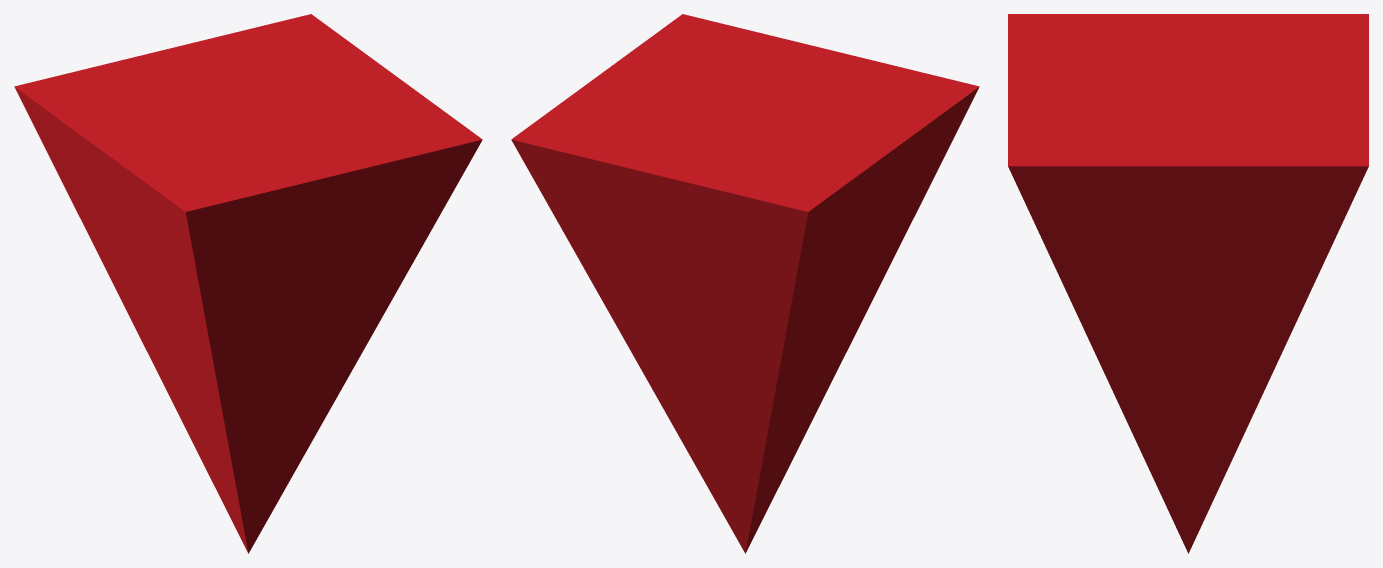
Rendered from end.fbx.
The picture shows the model from 3 angles, left to right: view 1: azimuth 30°, elevation 25°; view 2: azimuth 150°, elevation 25°; view 3: azimuth 270°, elevation 25°; orthographic projection. The views are drawn at different scales.
Visible parts, largest first — view 1: root; view 2: root; view 3: root.
Part boxes in pixels (left/top/right/bottom): root: left=14, top=14, right=482, bottom=553; root: left=511, top=14, right=979, bottom=553; root: left=1008, top=14, right=1368, bottom=553.
Bounding box in the file's own units: 0.2456 × 0.3483 × 0.2456.
Materials: 1 (1 with a texture image).
